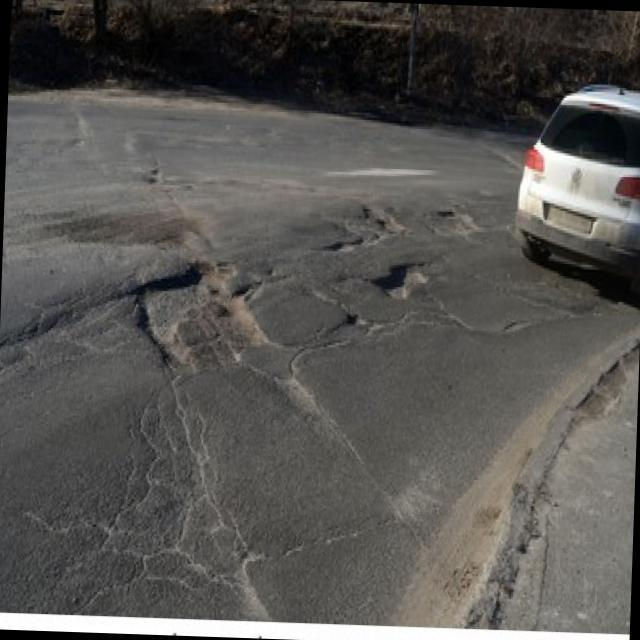pothole: (128, 253, 267, 373), (371, 260, 432, 303), (321, 238, 362, 254), (344, 312, 370, 330), (373, 216, 390, 231), (362, 204, 376, 221), (437, 209, 456, 219), (265, 266, 277, 278), (150, 165, 159, 175), (147, 177, 159, 184)
